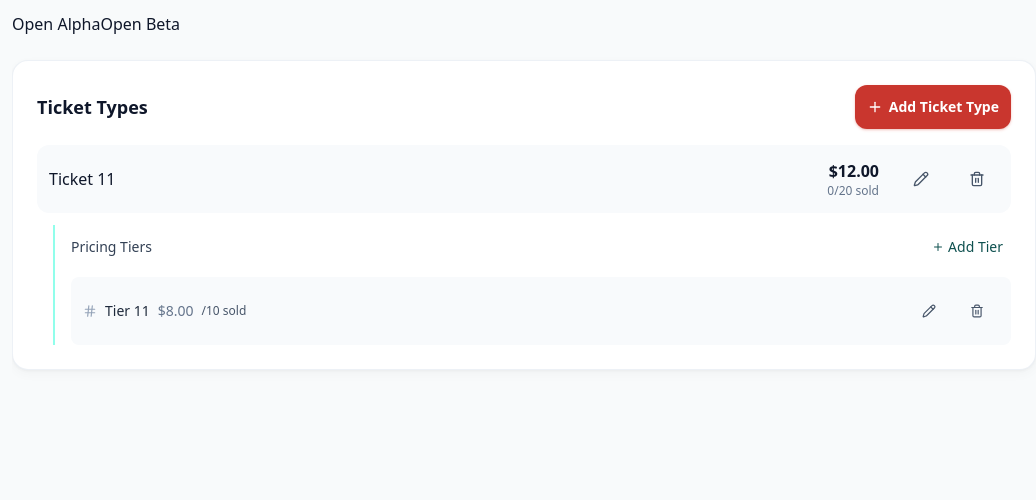
Test: cannot revive the old event form on delayed write success
Click the button named "Edit Ticket 11" at (921, 179), box [899,157,943,201]
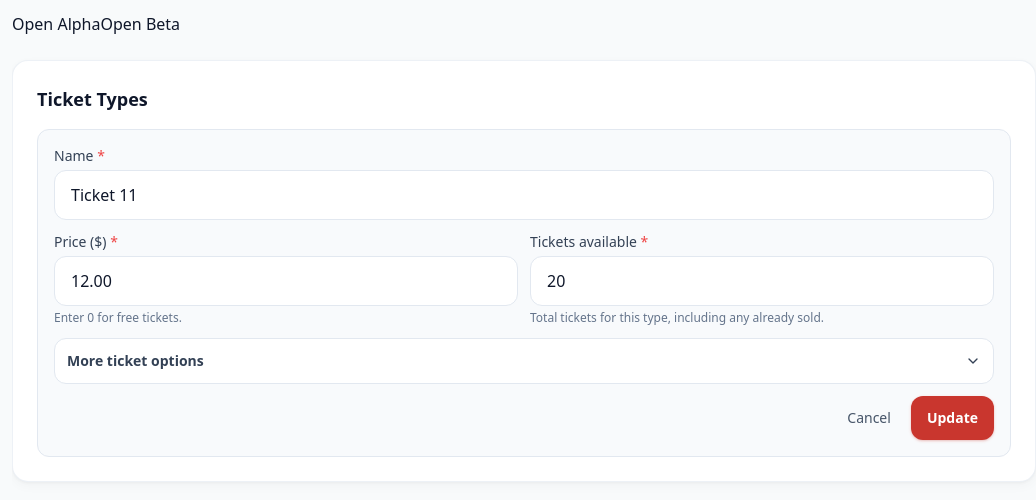
Replace the text in the field labelled "Name *" with "Private ticket draft" at (524, 195), box [54,170,994,220]
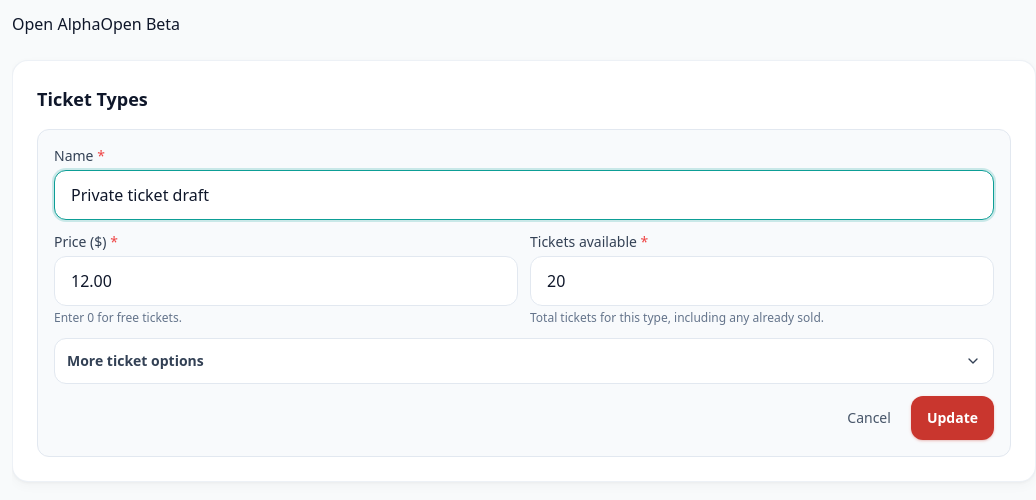
Click the button "Update" at (952, 418), box [911,396,994,440]
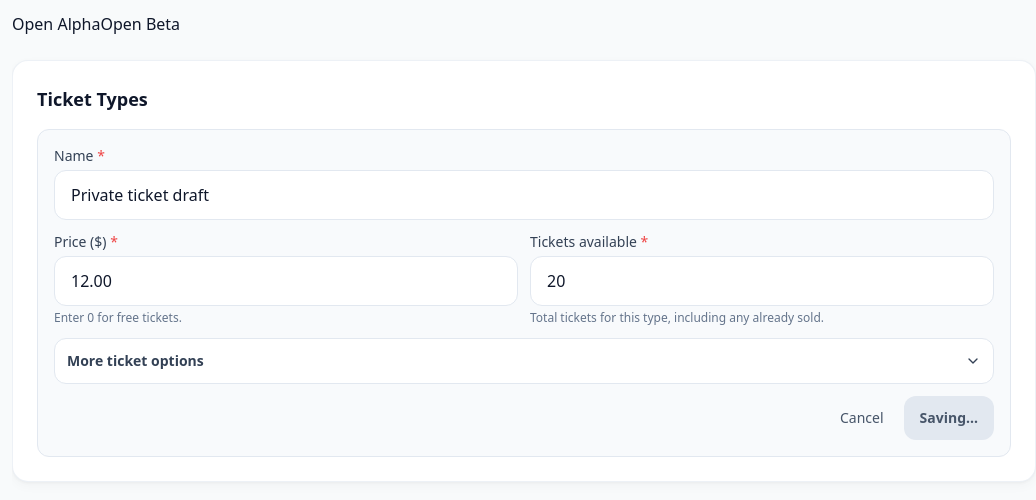
Click the link "Open Beta" at (140, 24), box [100,13,180,35]
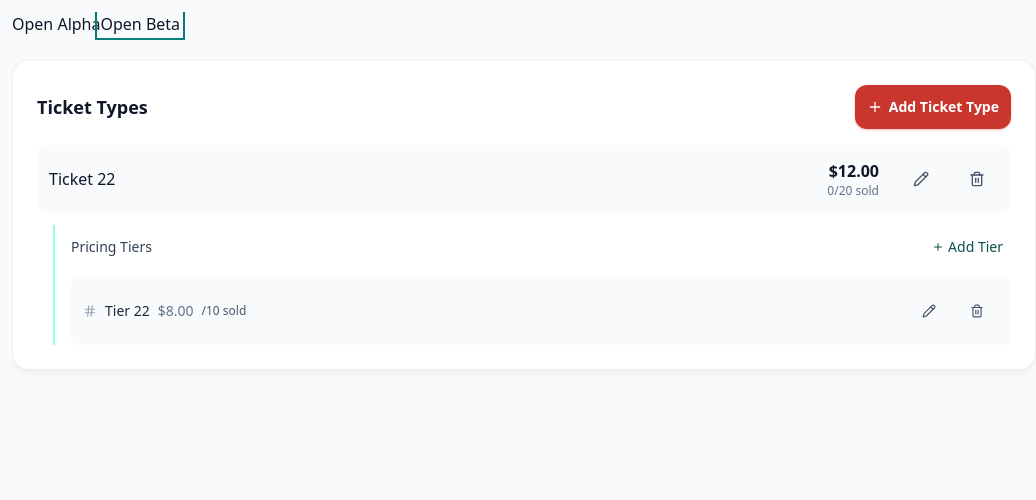
Expected: the text "Ticket 22" is shown, [49,168,116,190]
